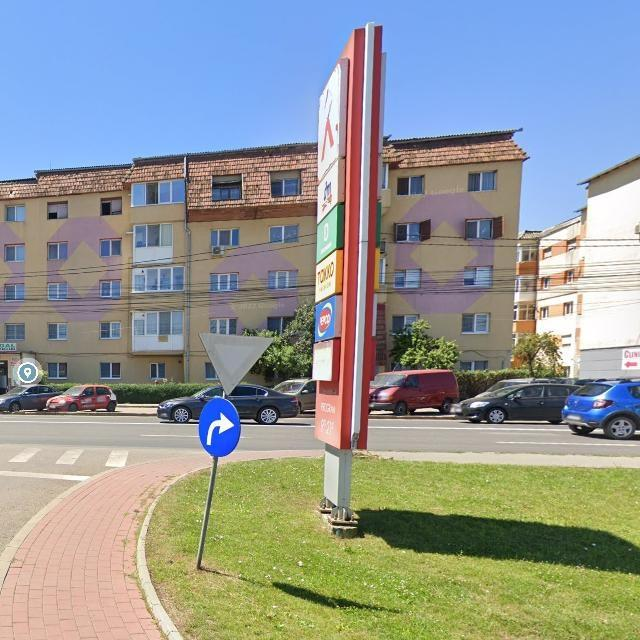prio_give_way: (198, 333, 273, 396)
